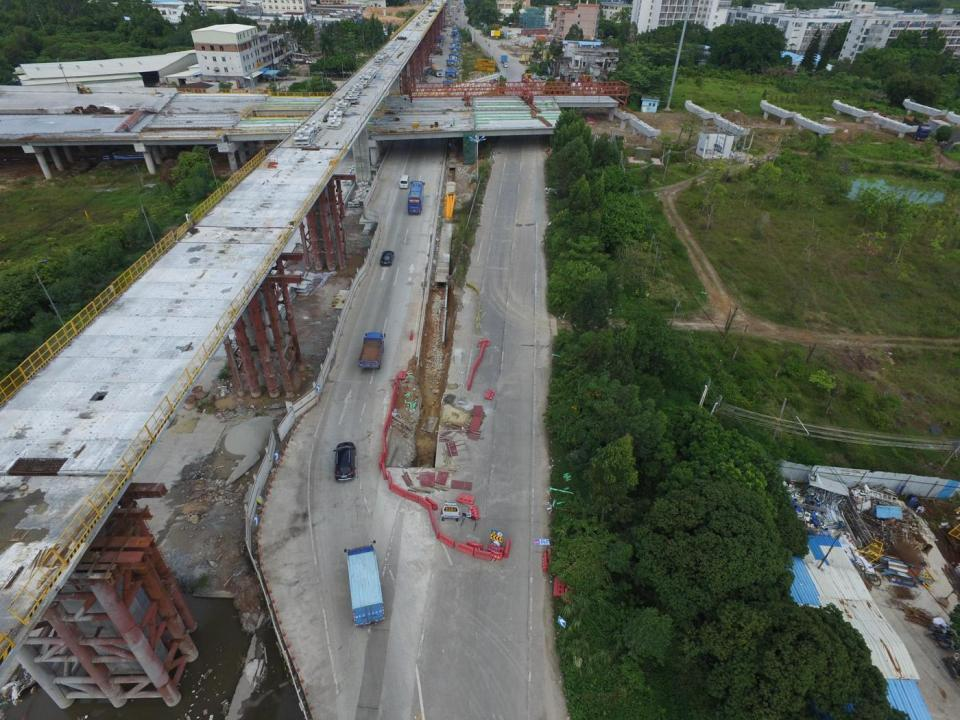bus: (408, 181, 423, 213)
car: (333, 442, 357, 482), (441, 503, 461, 522), (381, 249, 394, 268)
truck: (344, 540, 385, 628), (358, 331, 384, 369), (905, 115, 929, 140), (501, 55, 507, 62)
van: (400, 175, 408, 188), (280, 64, 288, 70), (504, 63, 508, 67), (430, 54, 433, 58)
